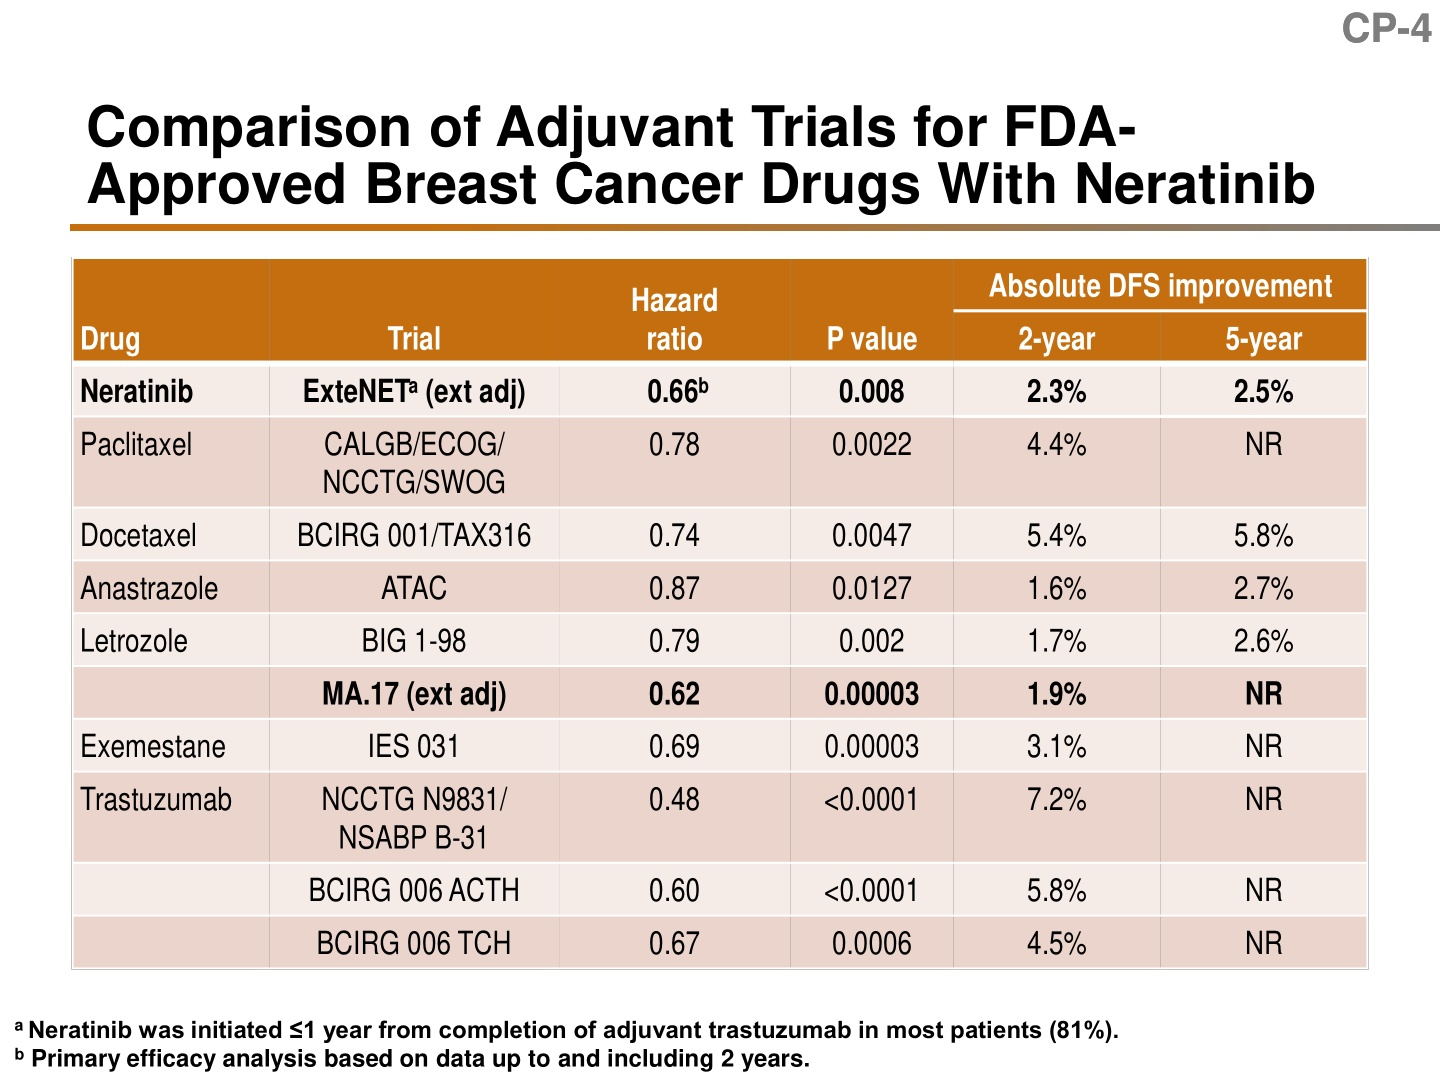merged_cells: (71, 256, 1371, 974)
